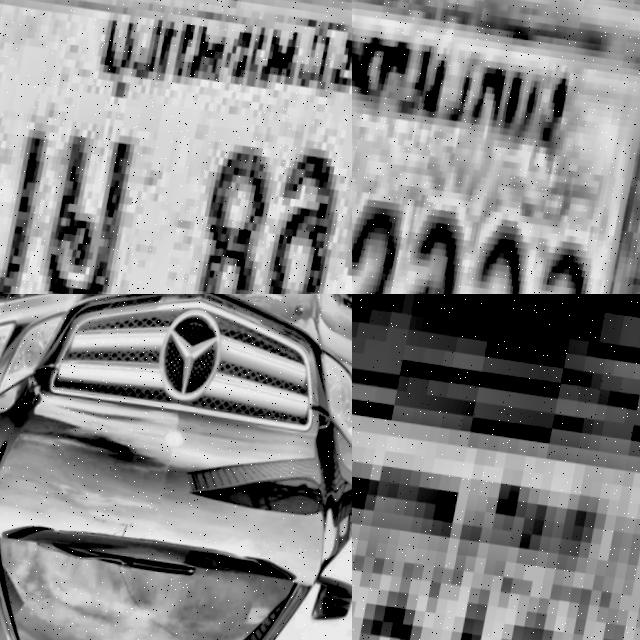license-plate: (0, 0, 352, 294), (352, 0, 640, 294), (352, 359, 640, 640)
